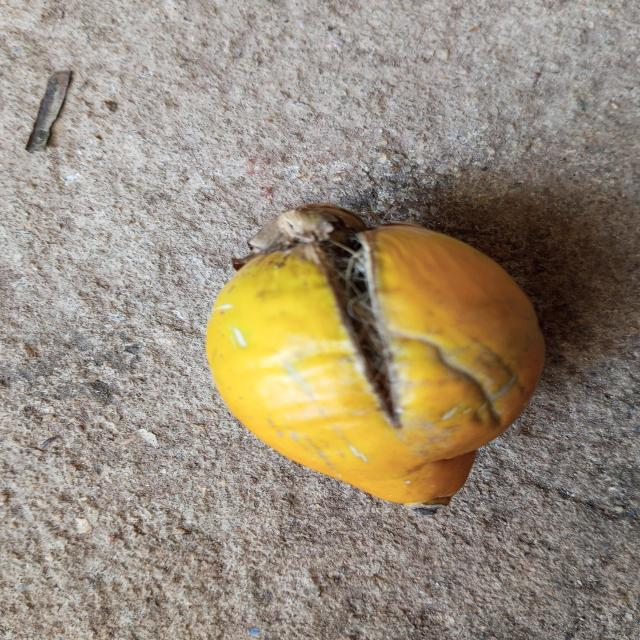damaged: (207, 203, 544, 512)
